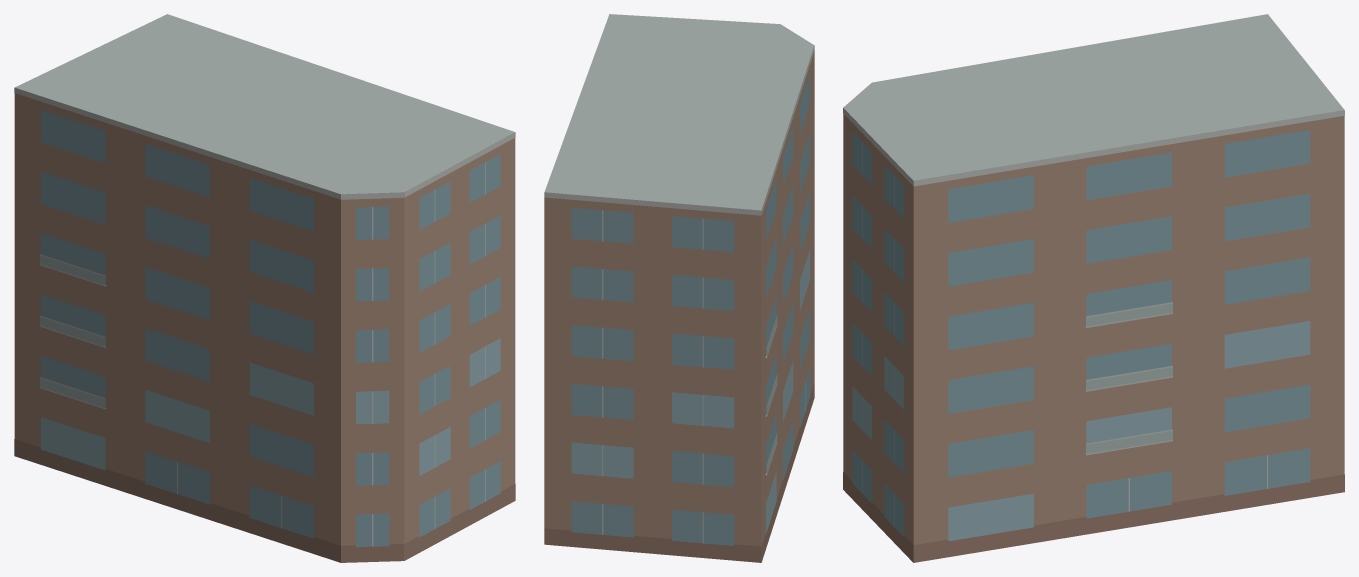
File: survey-upis-32969804.glb
3 views of the same model, side by side, from view 1: azimuth 30°, elevation 25°; view 2: azimuth 150°, elevation 25°; view 3: azimuth 270°, elevation 25° (orthographic). The views are drawn at different scales.
Visible parts, largest first — view 1: survey-upis-32969804.tmp; view 2: survey-upis-32969804.tmp; view 3: survey-upis-32969804.tmp.
Boxes of the visible parts, box(x1,y1,x2,y2) form: survey-upis-32969804.tmp: box(14, 14, 515, 562); survey-upis-32969804.tmp: box(544, 14, 814, 562); survey-upis-32969804.tmp: box(843, 14, 1344, 562).
Size of the model in its own units: 15.56 by 16.6 by 19.77.
